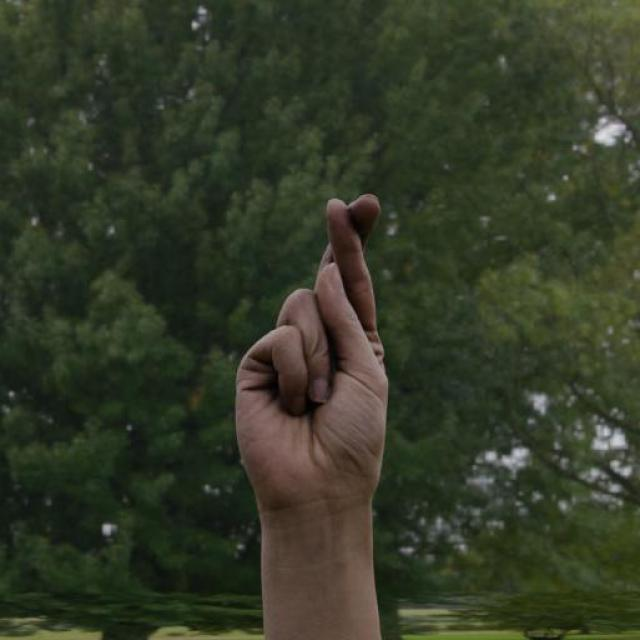R: (230, 182, 396, 528)
